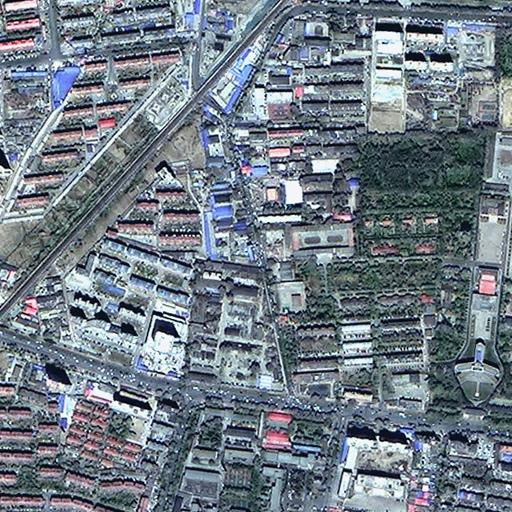school: (291, 171, 356, 258)
